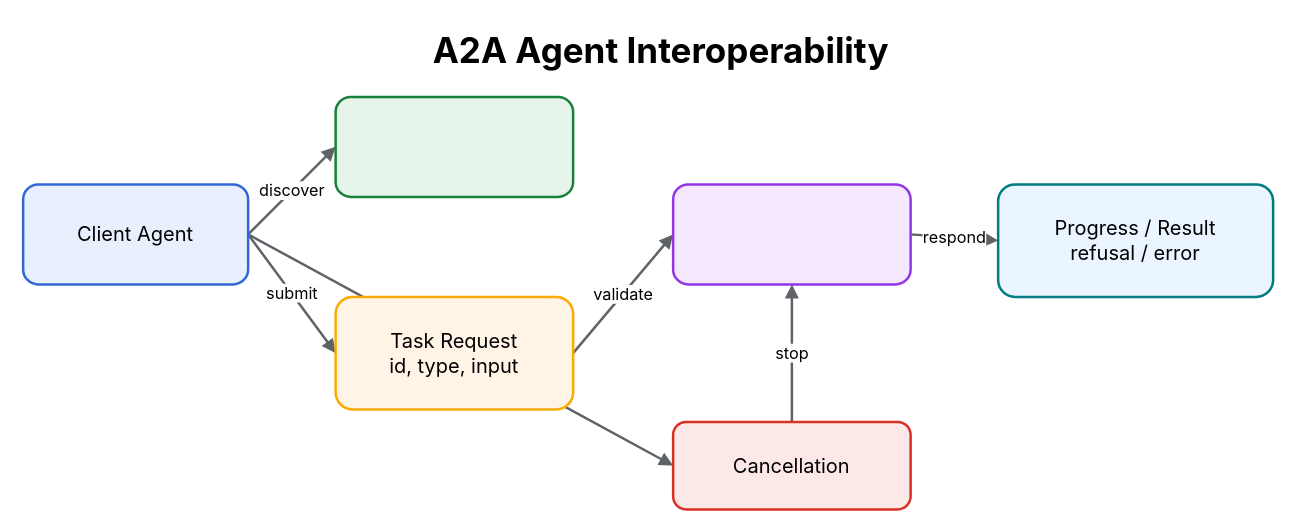
Image size: 1295x531. Some labels were removed from this diagram. The shapes that lost their labels are listed below. From the top down, each one's box as (x1, y1, x2, y2) in pixels, then its label:
(334, 95, 574, 198): Agent Card capabilities
(671, 182, 911, 285): Remote Agent
